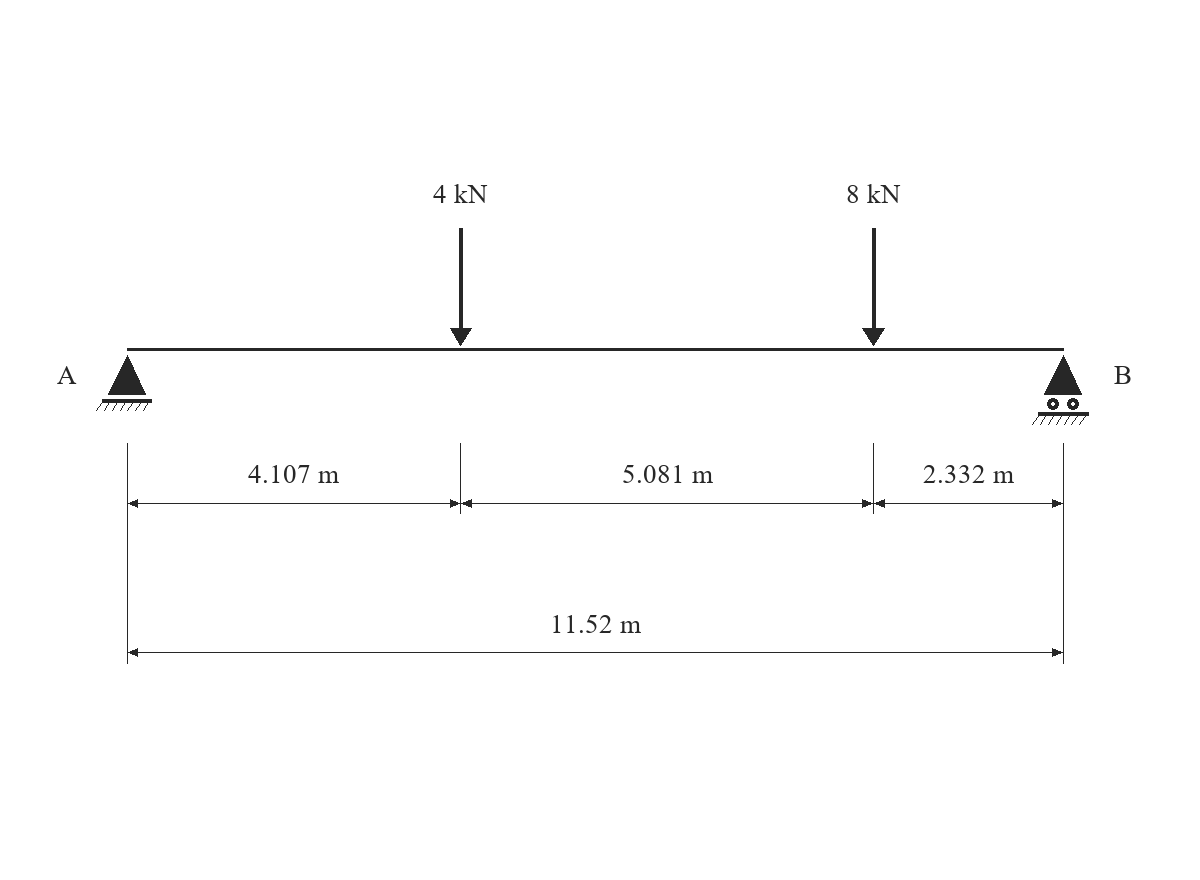pin_support: (96, 355, 152, 411)
point_load: (862, 228, 885, 346), (450, 228, 472, 346)
roller_support: (1032, 355, 1089, 425)
